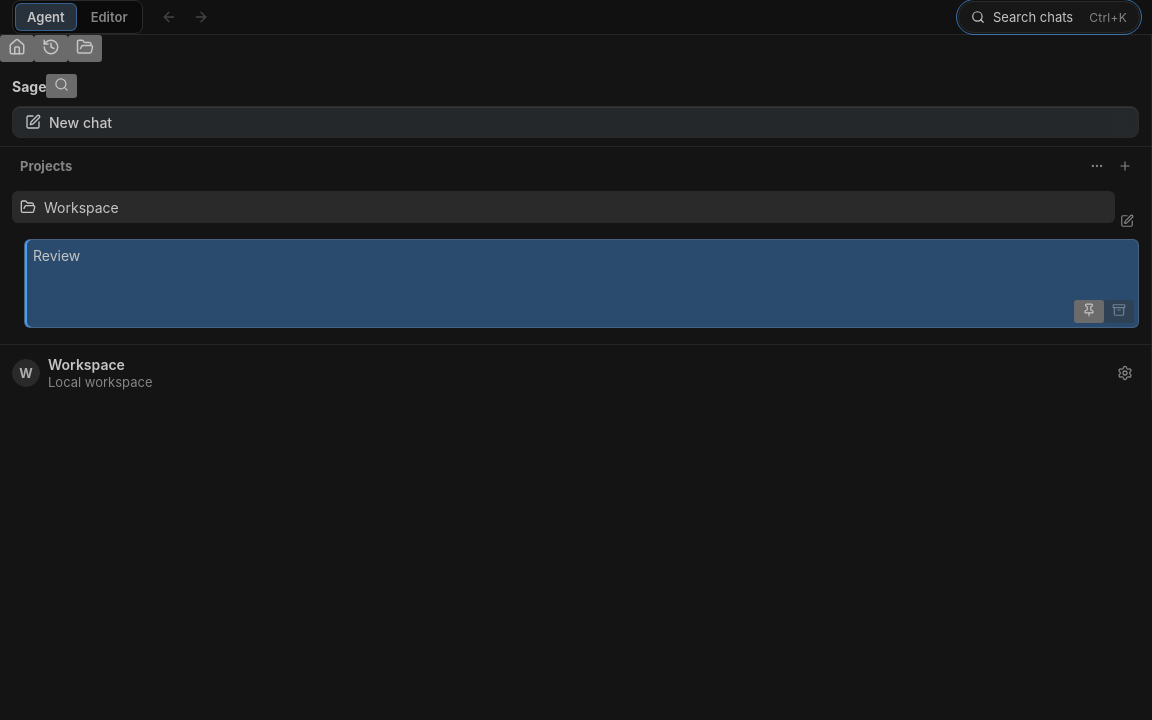
Test: TitleBar center chrome › opens one Chat search from the titlebar with persistent Agent navigation
expect the element named "Projects and chats" is shown: met, box [0, 35, 1151, 400]
expect the button "New chat" is shown: met, box [12, 106, 1139, 138]
Click the button "Search chats Ctrl+K": (1049,17) [958, 1, 1140, 33]
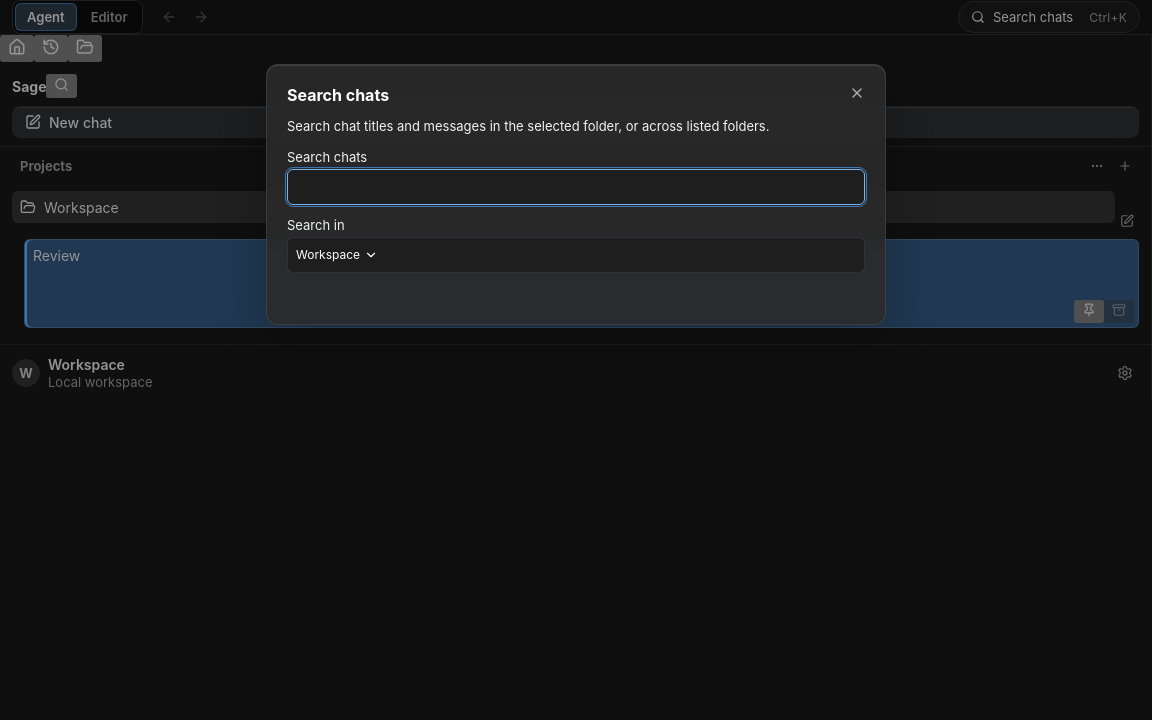
expect the number of dialogs is 1: met, box [266, 64, 886, 325]
Click the button with aria-label "Search in": (328,254) [287, 236, 865, 272]
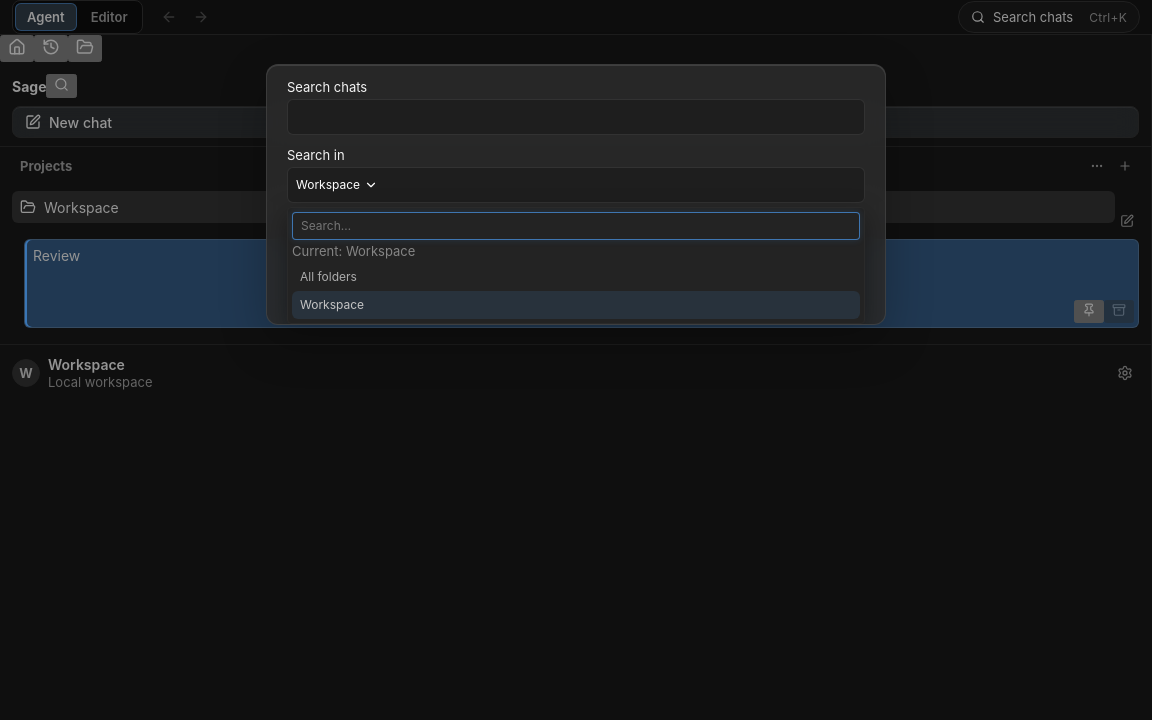
Press Home in the dropdown named "Search in", box [292, 212, 860, 240]
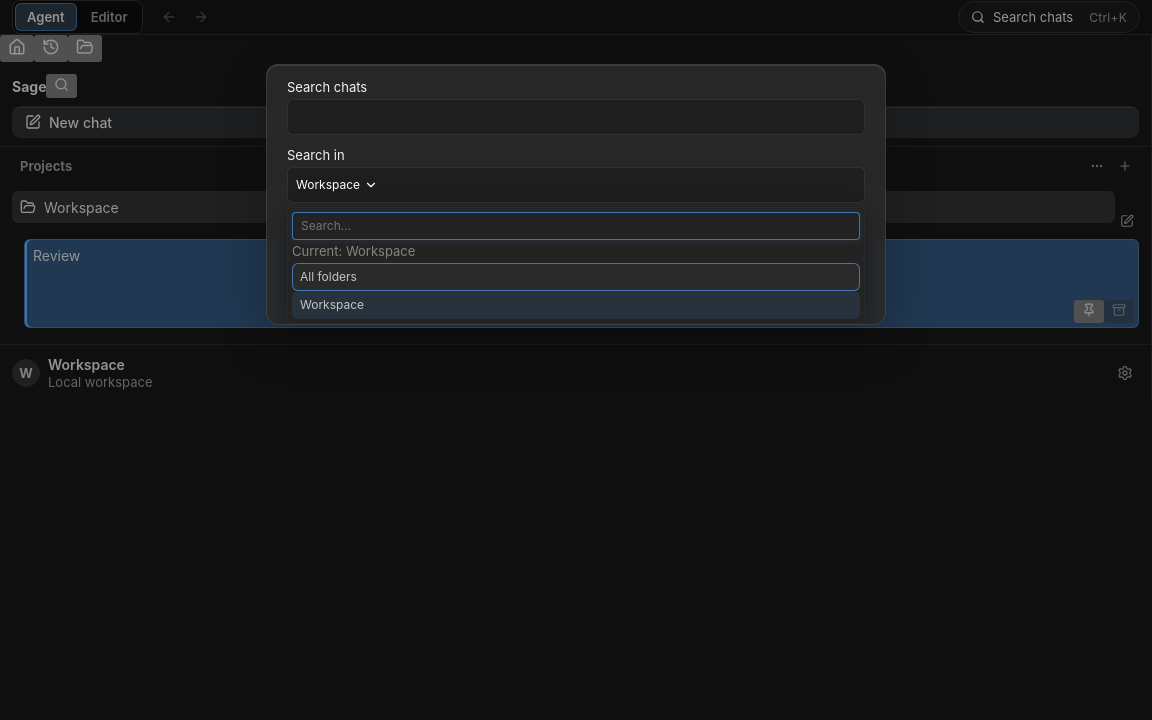
Press Enter in the dropdown named "Search in", box [292, 212, 860, 240]
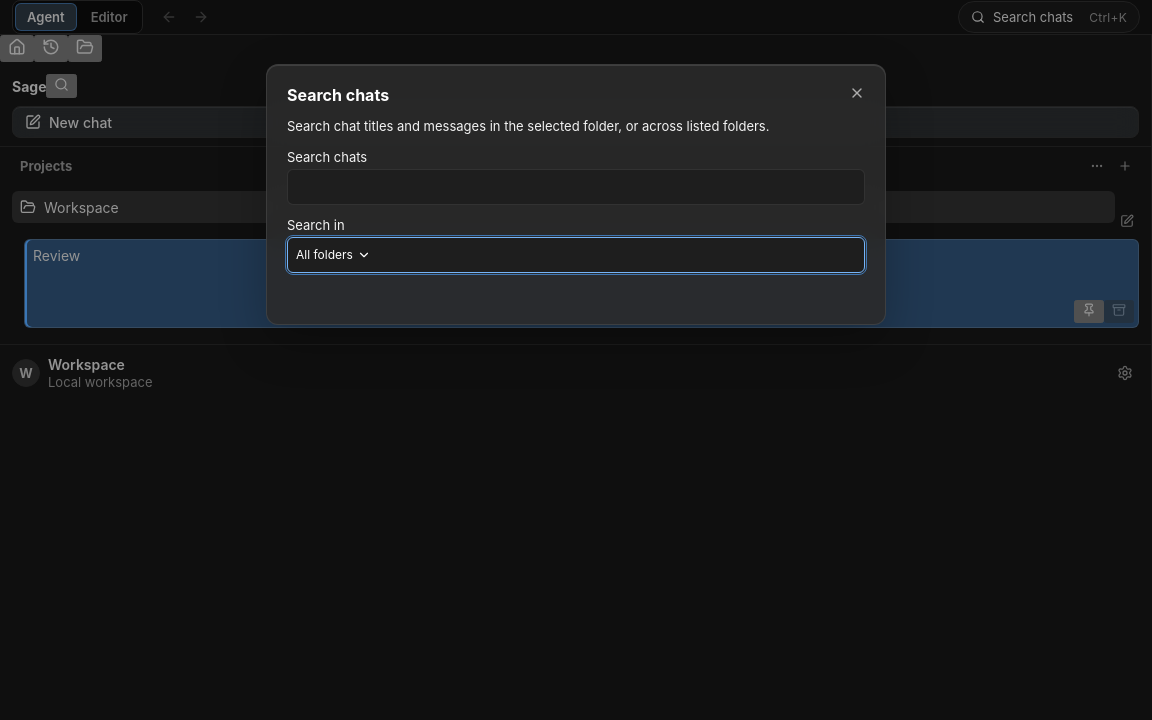
expect the button with aria-label "Search in" reads "All folders": met, box [287, 236, 865, 272]
Click the button named "Close": (857,93) [841, 77, 873, 109]
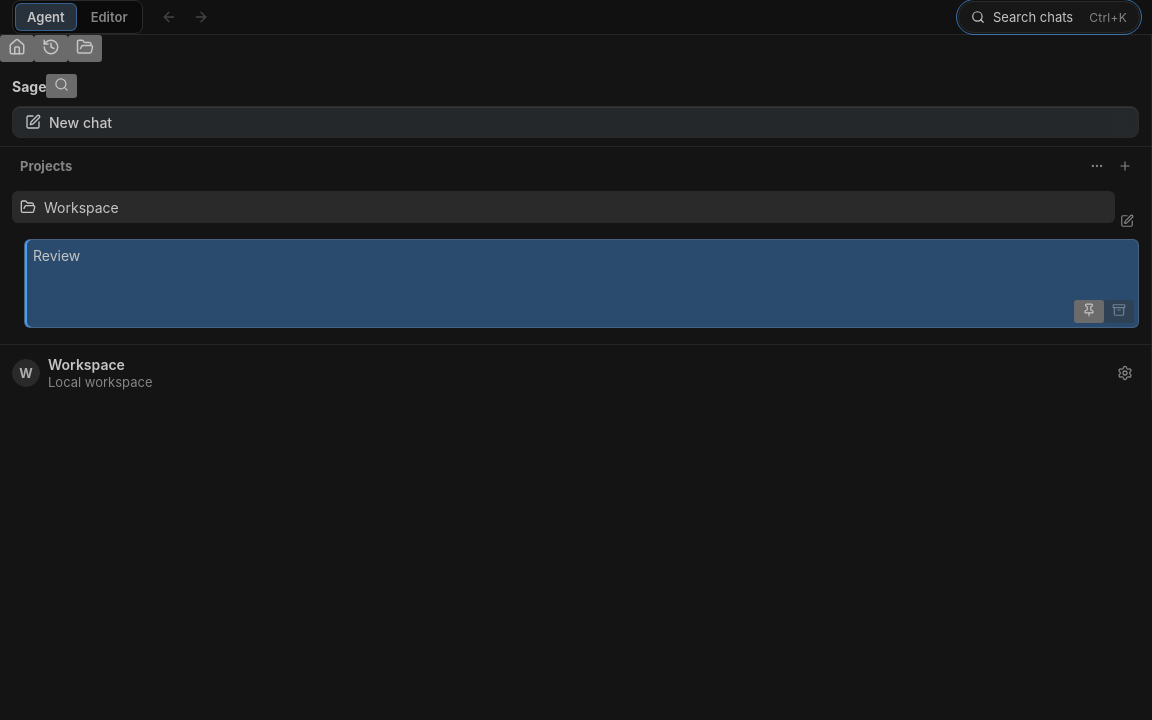
expect the button "New chat" is shown: met, box [12, 106, 1139, 138]
expect the dialog is gone: met
